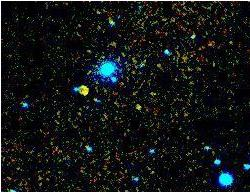star: (68, 80, 98, 110)
